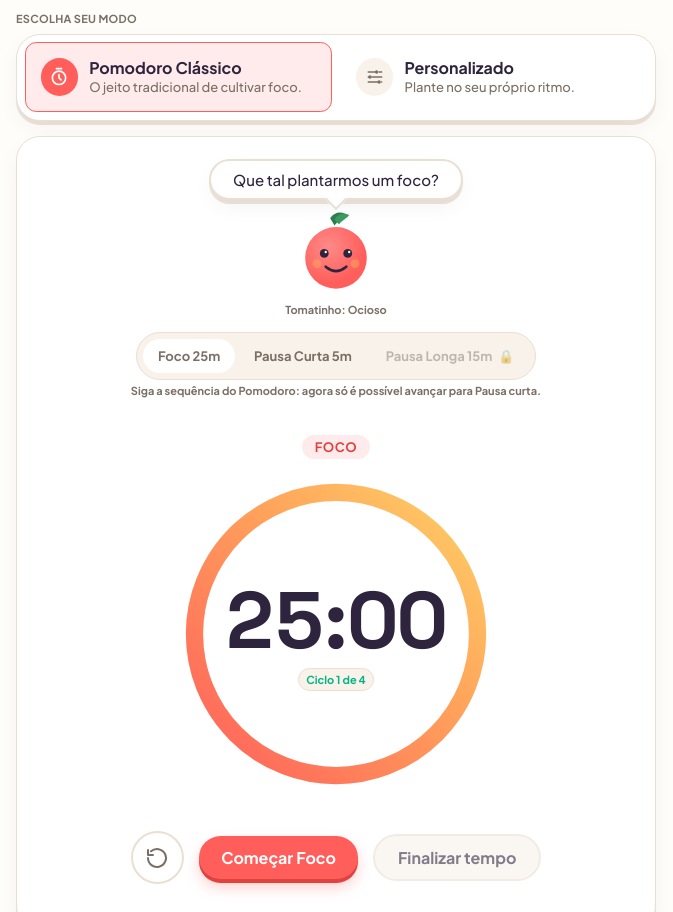
Test: TimerPage (mode: account) › alternância de modo (Parte 5) › voltar para "Pomodoro Clássico" restaura a tela clássica
The image size is (673, 912).
Click the tab "Personalizado".
click(494, 77)  # box [340,42,648,112]
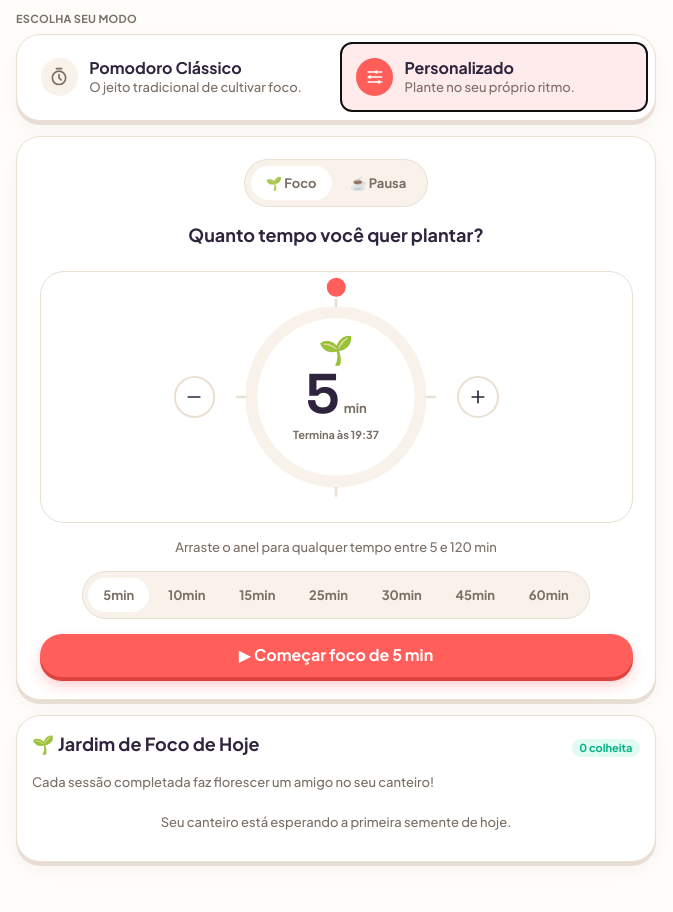
Click the tab "Pomodoro Clássico".
click(178, 77)  # box [24,42,332,112]
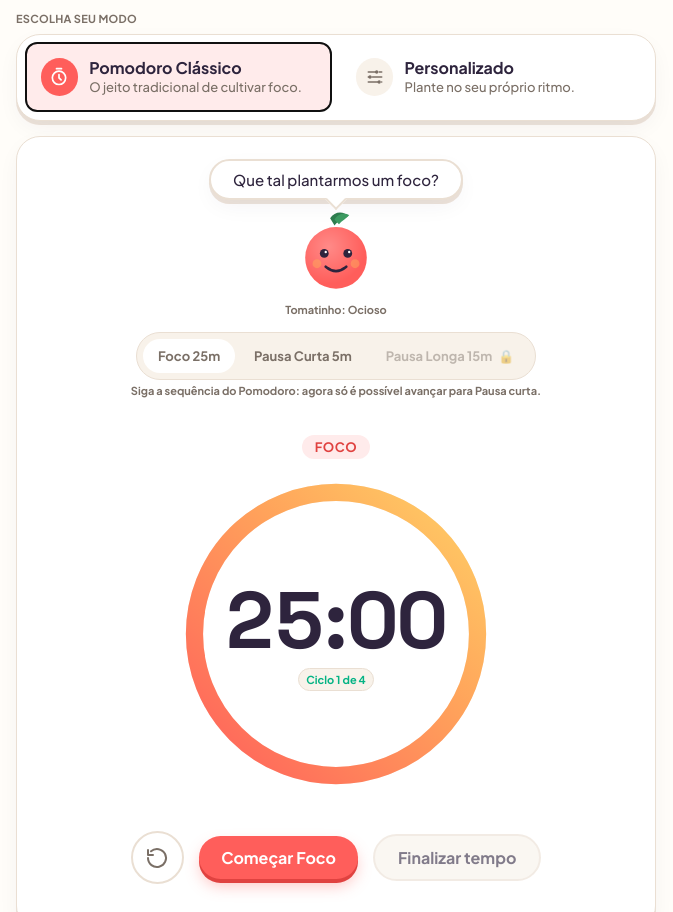
Check: the text "25:00" is shown, box [225,576,447,664]
